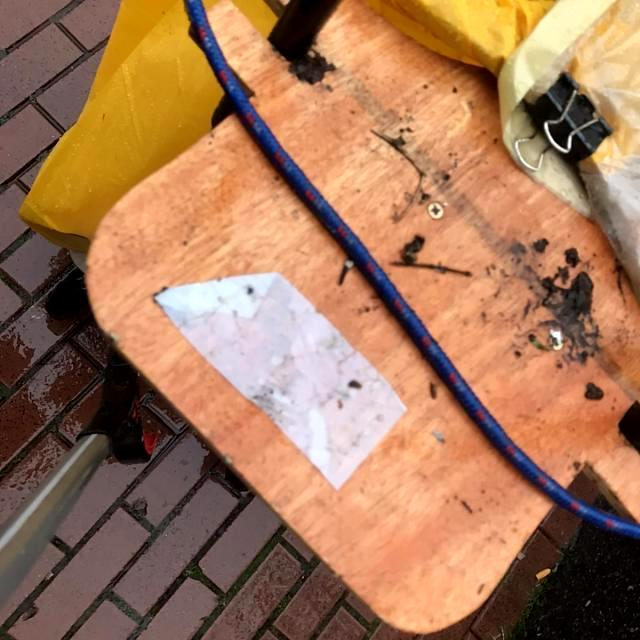Paper: (149, 270, 409, 494)
